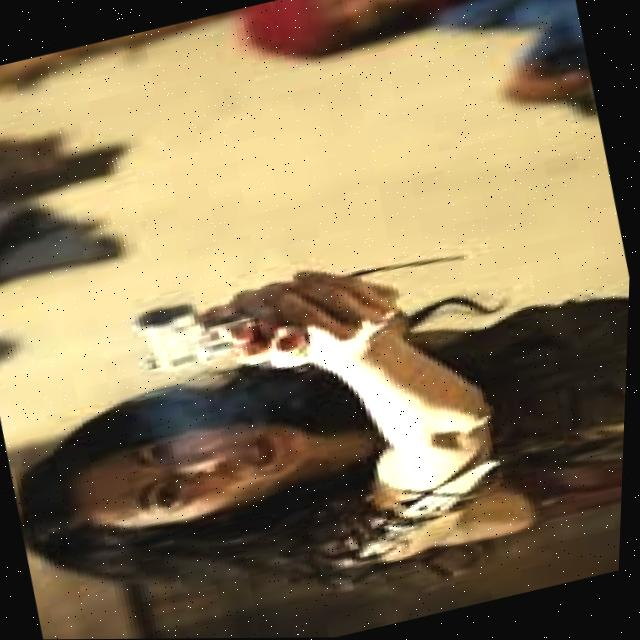pistol: (132, 286, 268, 381)
